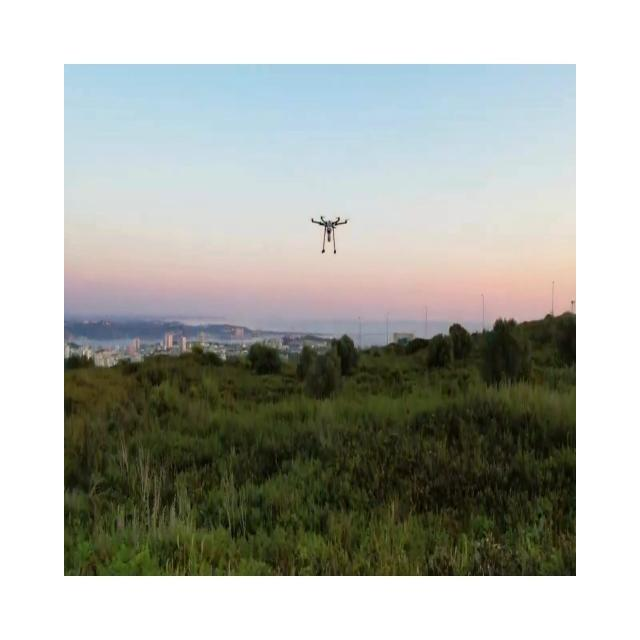drone: (310, 214, 348, 254)
